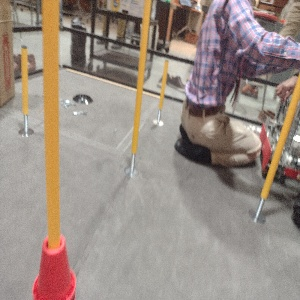Red_1: (31, 233, 77, 299)
